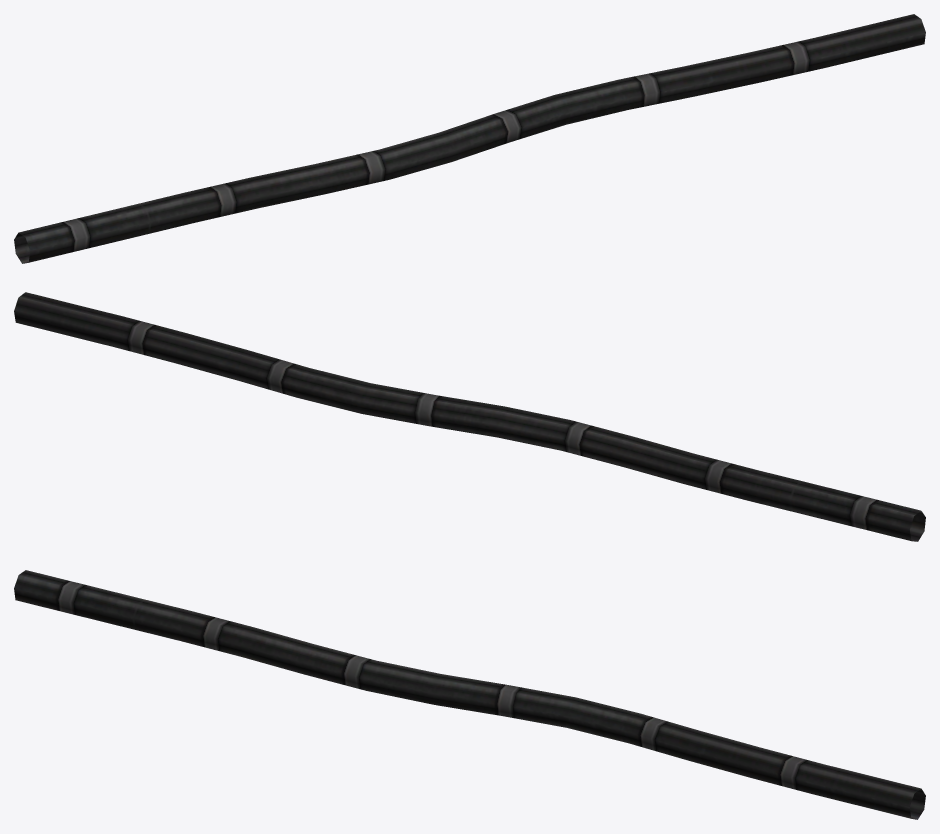
The model's file is lab_thick_straight_long.dae.
The picture shows the model from 3 angles, top to bottom: view 1: azimuth 30°, elevation 25°; view 2: azimuth 150°, elevation 25°; view 3: azimuth 330°, elevation 25°; orthographic projection.
Visible parts, largest first — view 1: straight_long; view 2: straight_long; view 3: straight_long.
Boxes of the visible parts, box(x1,y1,x2,y2) form: straight_long: box(14, 14, 925, 263); straight_long: box(14, 292, 925, 541); straight_long: box(14, 570, 925, 819).
Size of the model in its own units: 4 by 0.1228 by 0.2196.
